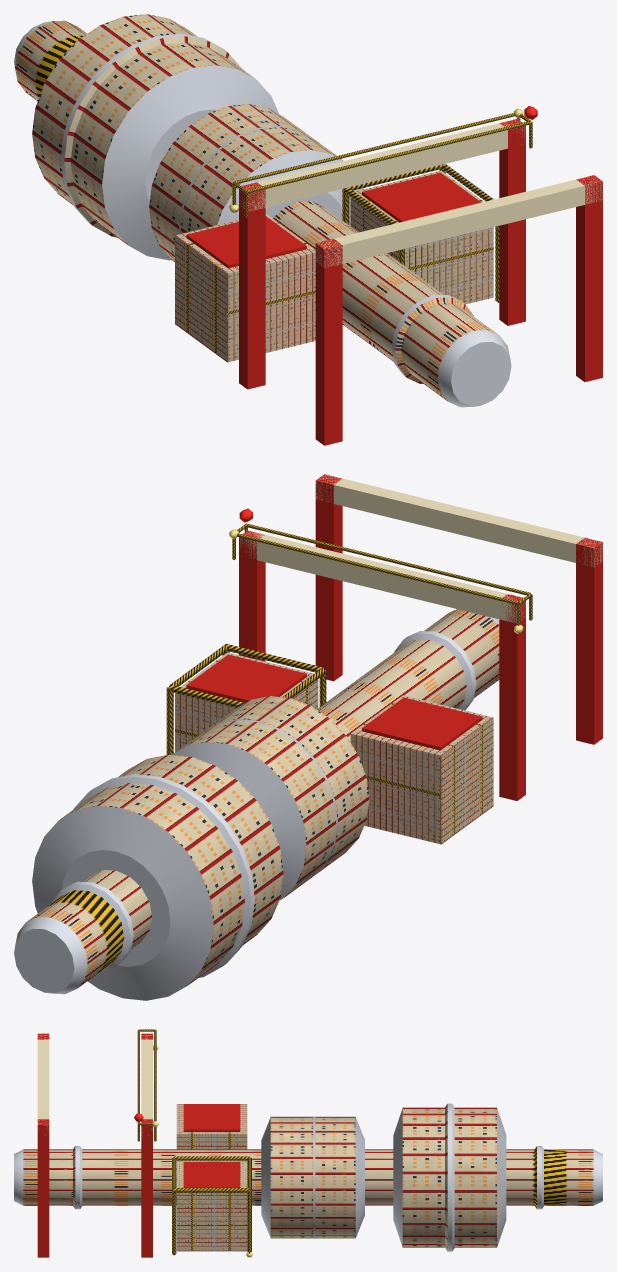
Rendered from manufacturing_center_build3.obj.
The picture shows the model from 3 angles, top to bottom: view 1: azimuth 30°, elevation 25°; view 2: azimuth 150°, elevation 25°; view 3: azimuth 270°, elevation 25°; orthographic projection. The views are drawn at different scales.
Parts seen in each view (by area): view 1: smelter1, gantry_leg, spine, cargo_bay, smelter2, gantry_beam, bay_door, girder; view 2: smelter1, spine, smelter2, gantry_leg, cargo_bay, gantry_beam, bay_door, girder; view 3: spine, smelter1, smelter2, cargo_bay, gantry_leg, bay_door, girder, gantry_beam.
Part boxes in pixels (left/top/right/bottom): smelter1: left=32, top=14, right=278, bottom=260; gantry_leg: left=239, top=119, right=602, bottom=445; spine: left=14, top=20, right=511, bottom=407; cargo_bay: left=175, top=170, right=493, bottom=362; smelter2: left=149, top=104, right=363, bottom=261; gantry_beam: left=239, top=119, right=602, bottom=267; bay_door: left=186, top=172, right=480, bottom=268; girder: left=232, top=112, right=532, bottom=302; smelter1: left=32, top=754, right=283, bottom=1000; spine: left=14, top=609, right=499, bottom=994; smelter2: left=172, top=696, right=369, bottom=899; gantry_leg: left=239, top=474, right=602, bottom=800; cargo_bay: left=175, top=652, right=493, bottom=844; gantry_beam: left=240, top=475, right=602, bottom=623; bay_door: left=186, top=654, right=482, bottom=750; girder: left=166, top=523, right=532, bottom=754; spine: left=14, top=1146, right=602, bottom=1209; smelter1: left=393, top=1103, right=506, bottom=1251; smelter2: left=261, top=1116, right=364, bottom=1238; cargo_bay: left=176, top=1104, right=247, bottom=1251; gantry_leg: left=37, top=1033, right=152, bottom=1257; bay_door: left=183, top=1104, right=240, bottom=1187; girder: left=137, top=1029, right=251, bottom=1255; gantry_beam: left=37, top=1035, right=152, bottom=1135.
Bounding box in the file's own units: 96.73 × 83.37 × 250.
7 materials, 2 textured.
